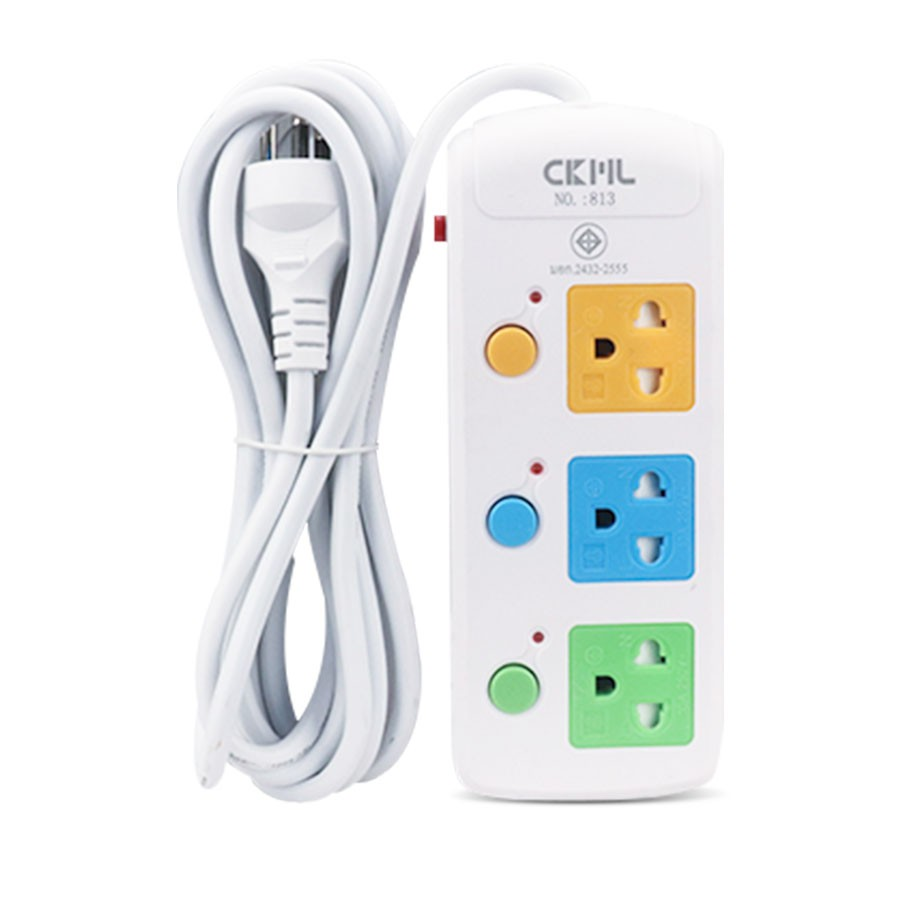Three_eye_plug: (164, 33, 734, 812)
